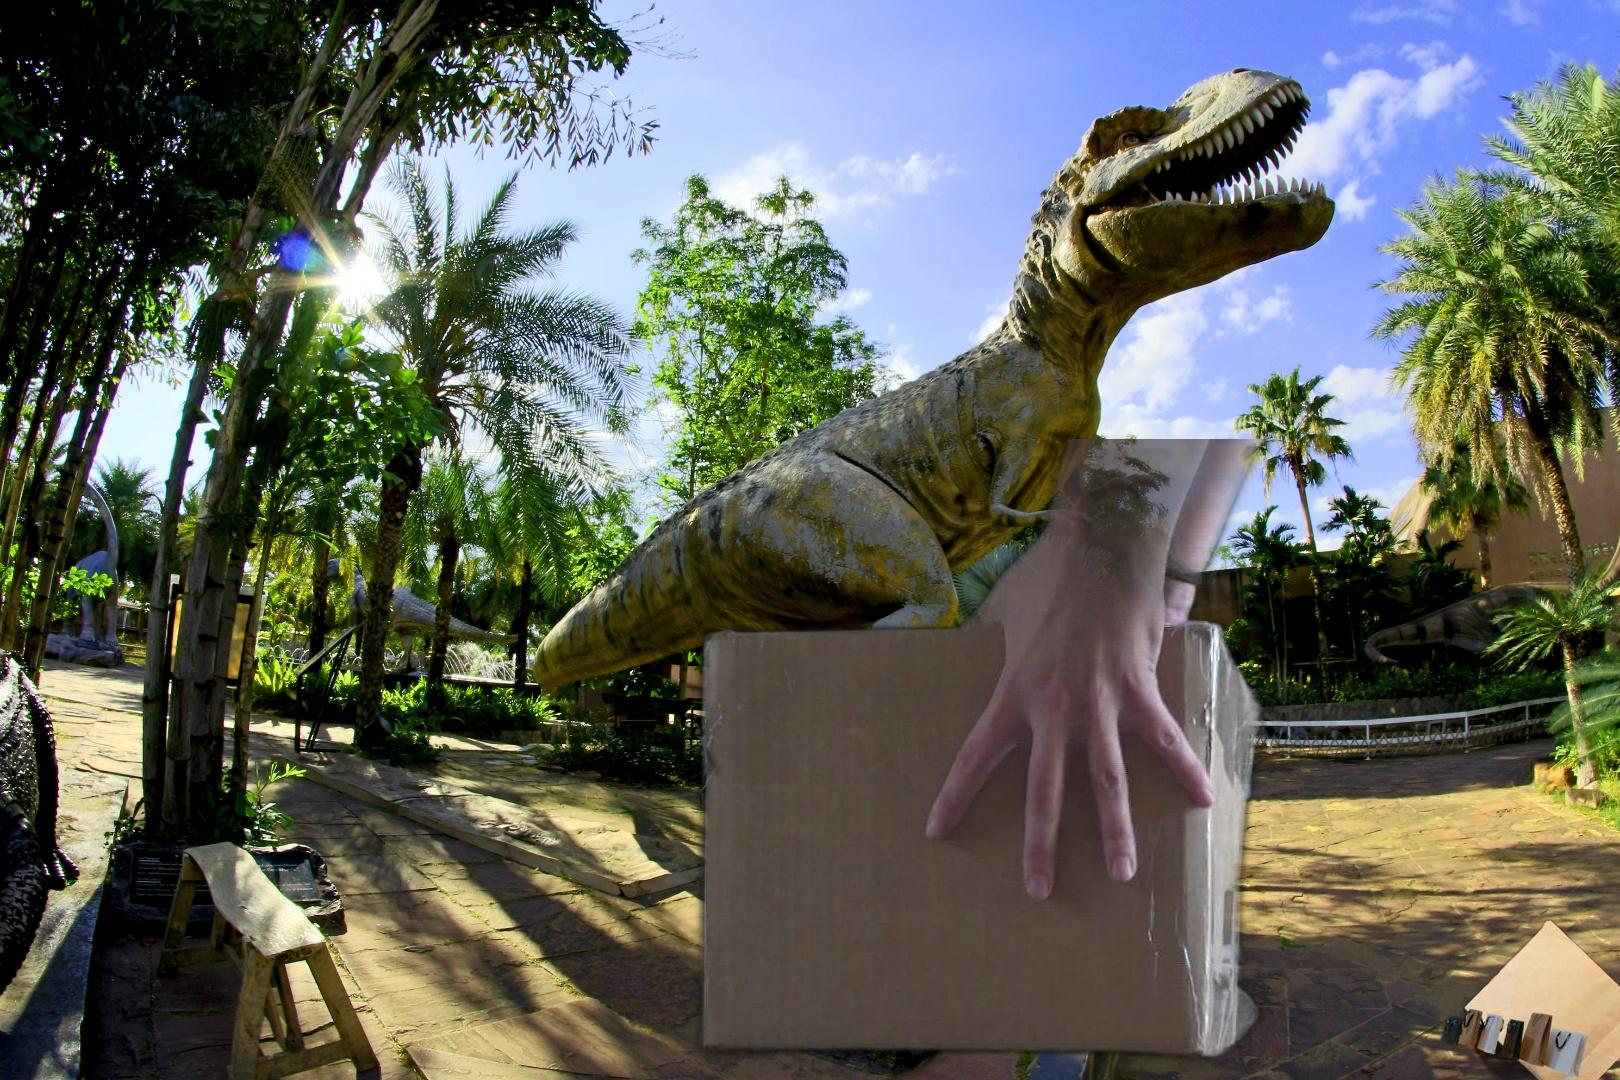glass: (1565, 994, 1620, 1080)
paper-bag: (1437, 918, 1620, 1080)
trashbox-cardboard: (108, 439, 1620, 1068)
